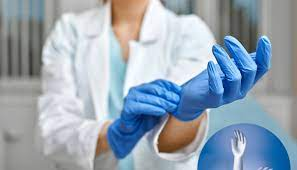glove: (178, 33, 274, 116), (118, 77, 182, 141)
